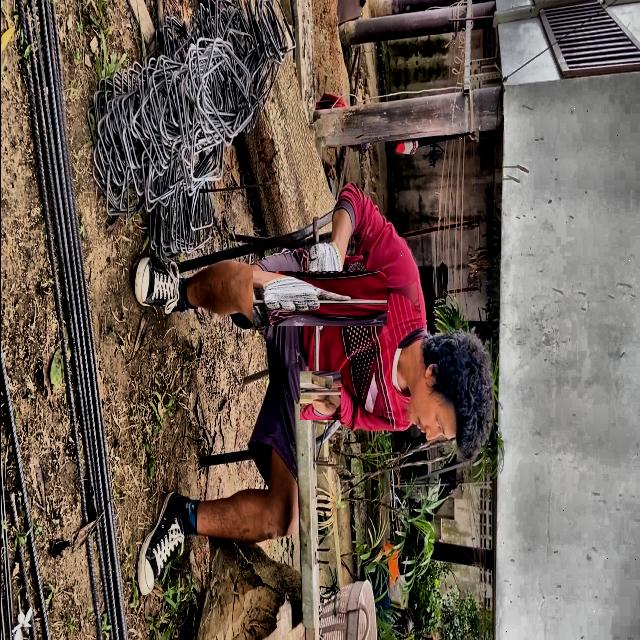gloved: (272, 251, 367, 346)
not-gloved: (296, 373, 342, 418)
